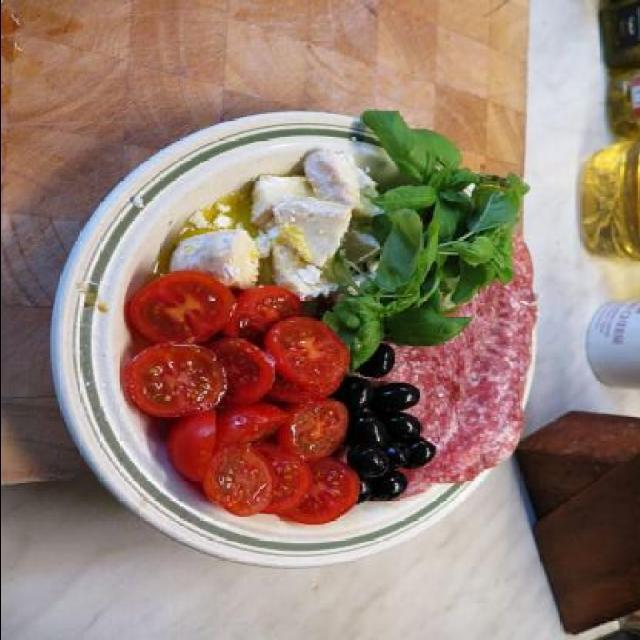Tomato: (125, 286, 362, 522), (133, 268, 235, 350)
